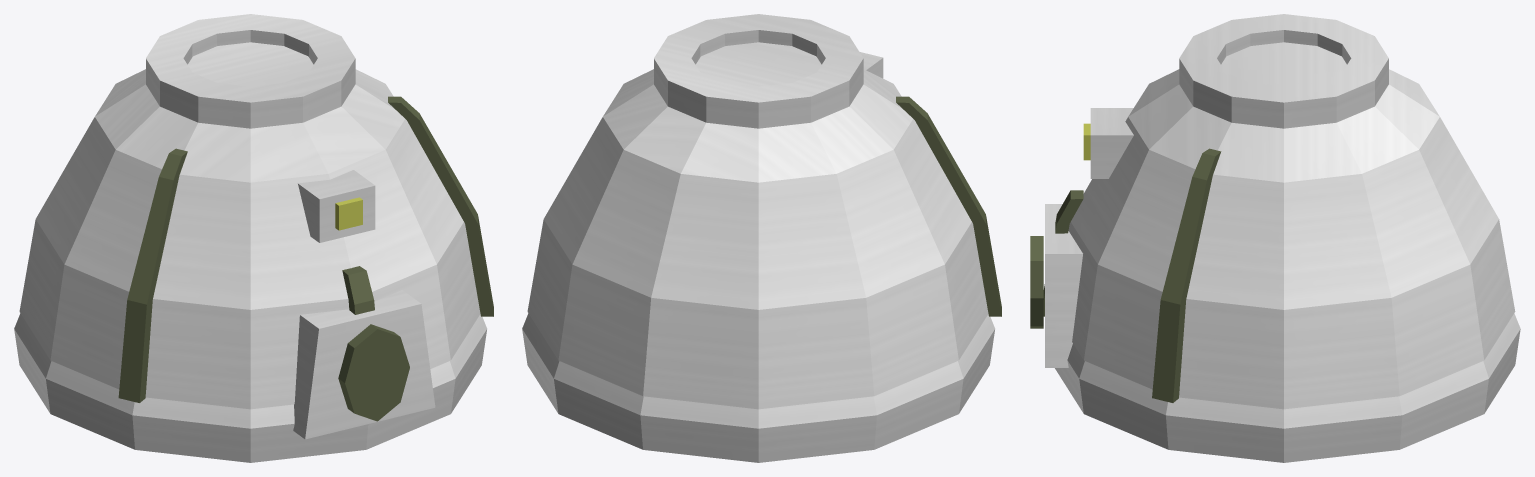
The model's file is mech_high_shield.obj.
3 renders of one model, left to right at view 1: azimuth 30°, elevation 25°; view 2: azimuth 150°, elevation 25°; view 3: azimuth 270°, elevation 25°, orthographic.
Visible parts, largest first — view 1: mech_high_shield; view 2: mech_high_shield; view 3: mech_high_shield.
Part boxes in pixels (x1,y1,x2,y2): mech_high_shield: (14, 14, 493, 462); mech_high_shield: (522, 14, 1001, 462); mech_high_shield: (1030, 14, 1520, 462).
Bounding box in the file's own units: 0.88 × 0.63 × 0.912.
